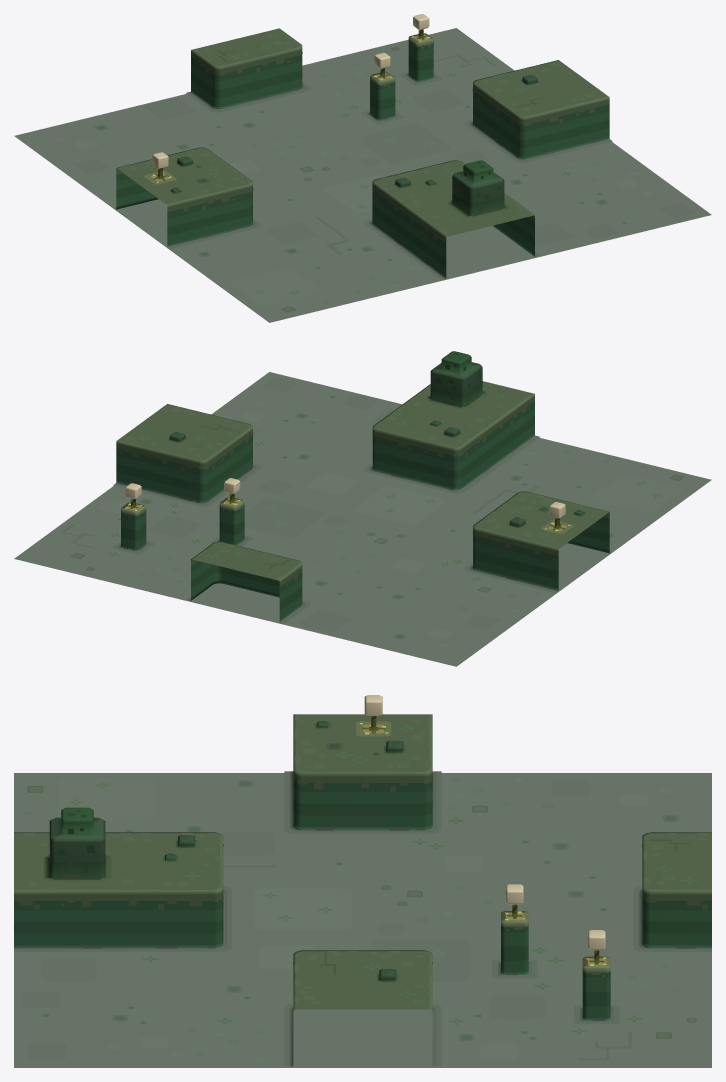
File: C_cave2_01.fbx
3 renders of one model, top to bottom at view 1: azimuth 30°, elevation 25°; view 2: azimuth 150°, elevation 25°; view 3: azimuth 270°, elevation 25°, orthographic. The views are drawn at different scales.
Visible parts, largest first — view 1: C_cave2_01; view 2: C_cave2_01; view 3: C_cave2_01.
Boxes of the visible parts, x1=… form: C_cave2_01: x1=14, y1=14, x2=711, y2=322; C_cave2_01: x1=14, y1=351, x2=711, y2=666; C_cave2_01: x1=14, y1=695, x2=711, y2=1067.
Size of the model in its own units: 50 by 9.03 by 50.
